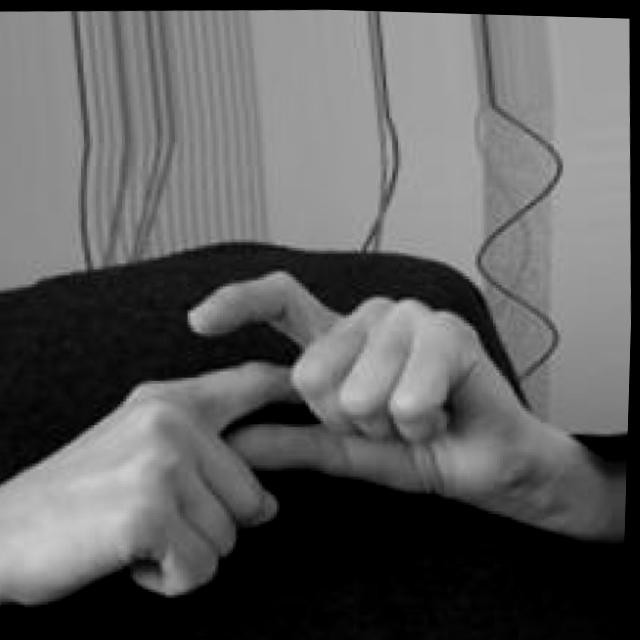G: (0, 238, 633, 637)
